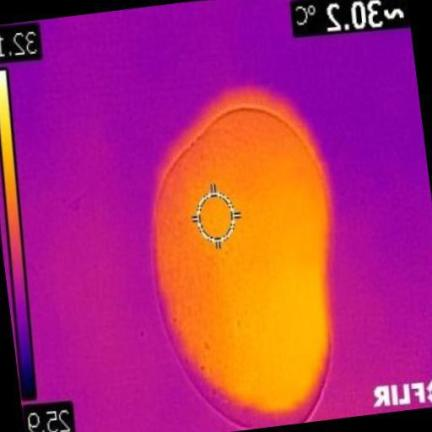mango: (154, 101, 330, 428)
